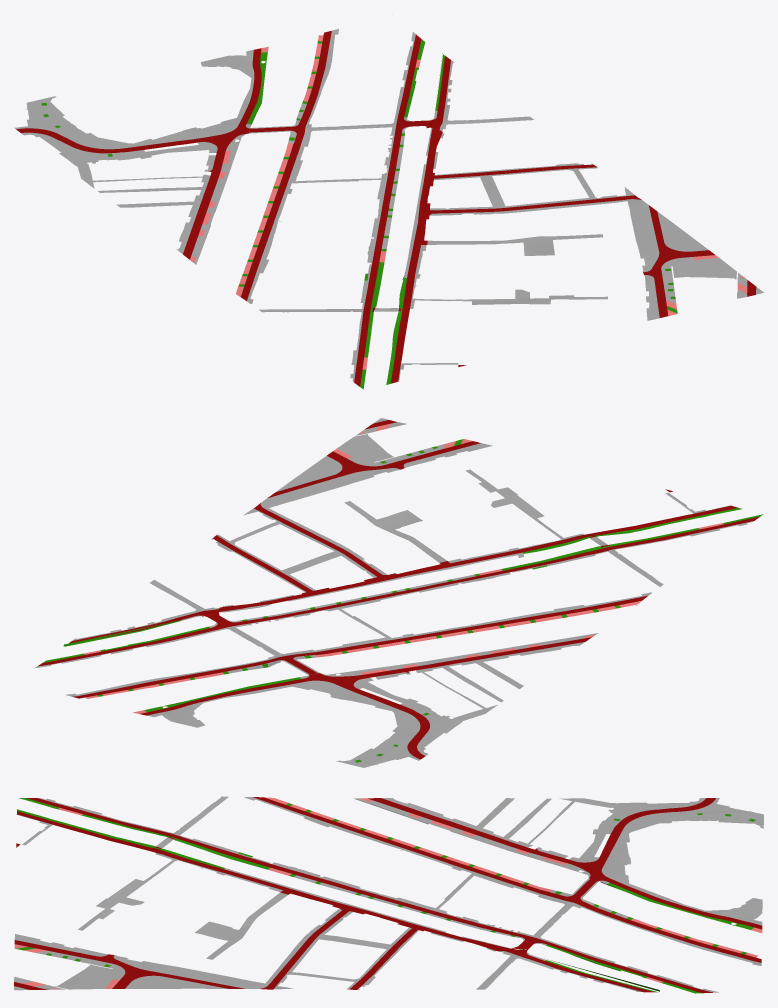
Rendered from tile-67319-51836-16 gebieden.fbx.
The picture shows the model from 3 angles, top to bottom: view 1: azimuth 30°, elevation 25°; view 2: azimuth 150°, elevation 25°; view 3: azimuth 270°, elevation 25°; orthographic projection. The views are drawn at different scales.
Visible parts, largest first — view 1: Mesh (×4); view 2: Mesh (×4); view 3: Mesh (×4).
Part boxes in pixels (bbox=[...]): Mesh (×4): bbox=[14, 14, 763, 389]; Mesh (×4): bbox=[35, 418, 763, 767]; Mesh (×4): bbox=[14, 796, 763, 993].
Size of the model in its own units: 189 by 2.89 by 307.
